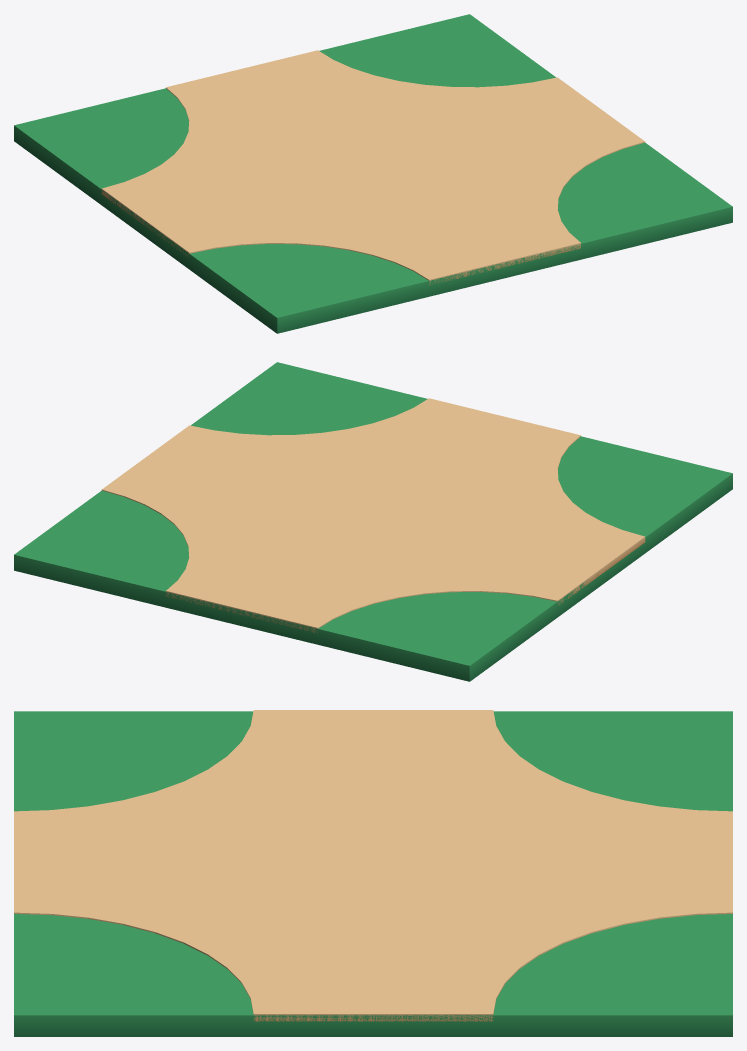
The model's file is plaza_cruce.glb.
3 views of the same model, one above another, from view 1: azimuth 30°, elevation 25°; view 2: azimuth 150°, elevation 25°; view 3: azimuth 270°, elevation 25° (orthographic). The views are drawn at different scales.
Visible parts, largest first — view 1: plaza_cruce; view 2: plaza_cruce; view 3: plaza_cruce.
Part boxes in pixels (bbox=[...]): plaza_cruce: bbox=[14, 14, 732, 333]; plaza_cruce: bbox=[14, 362, 732, 681]; plaza_cruce: bbox=[14, 710, 732, 1036].
Size of the model in its own units: 6 by 0.212 by 6.
1 material, 1 textured.
